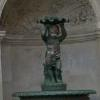Statue: (27, 5, 74, 90)
